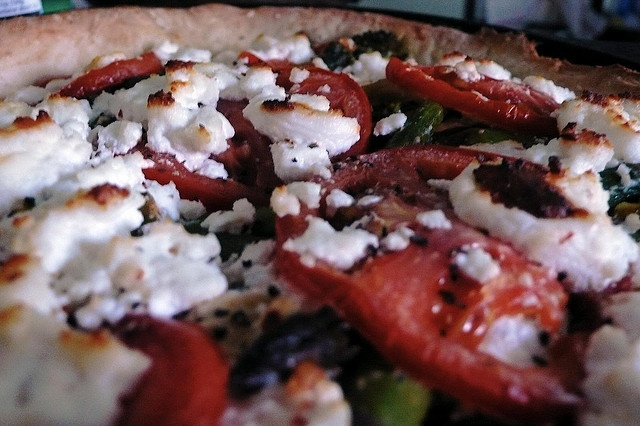pizza: (0, 0, 640, 420)
